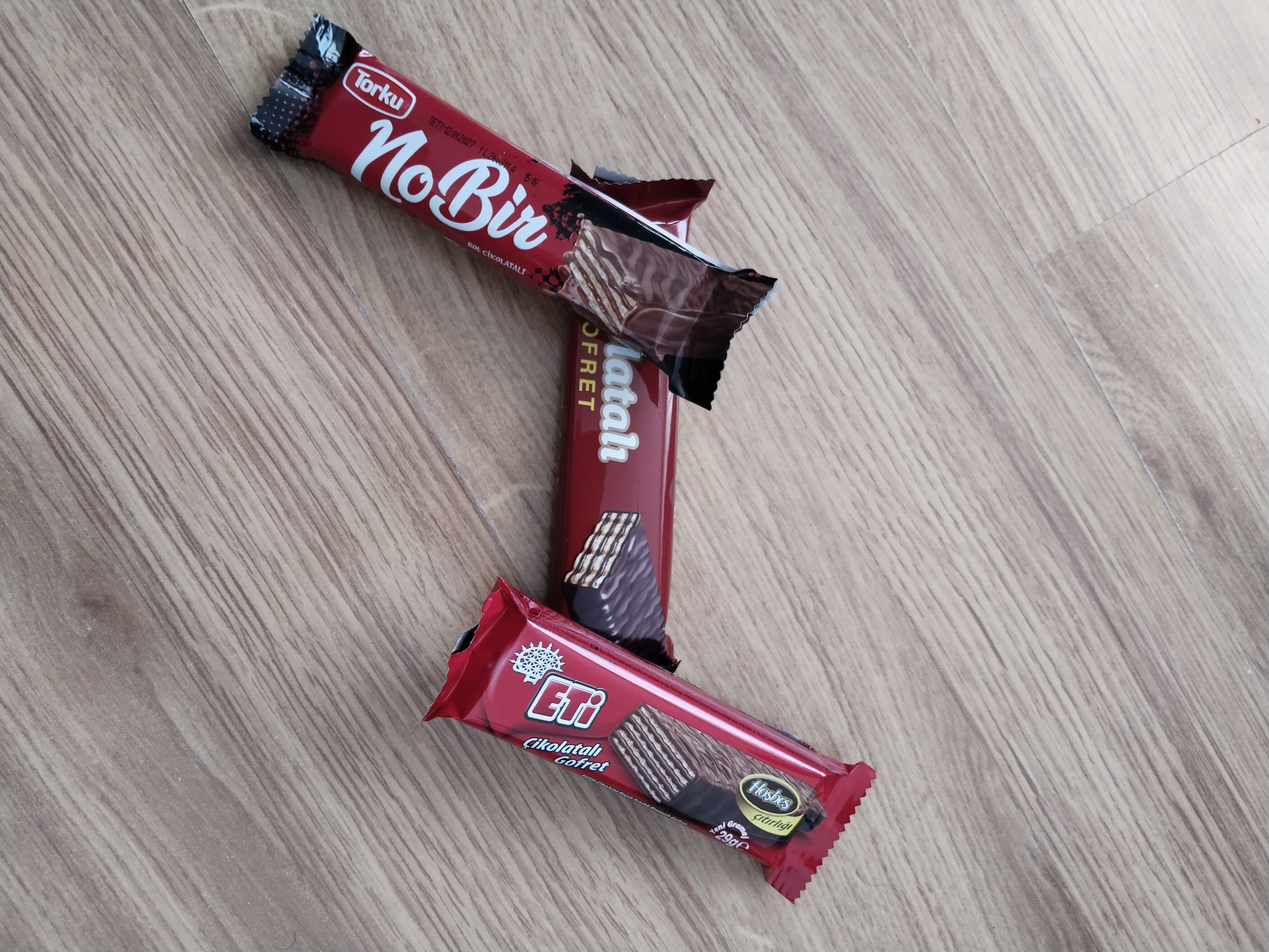centro_gofret: (549, 329, 676, 666)
eti_hosbes_gofret: (418, 575, 879, 904)
torku_nobir_gofret: (248, 13, 786, 413)
